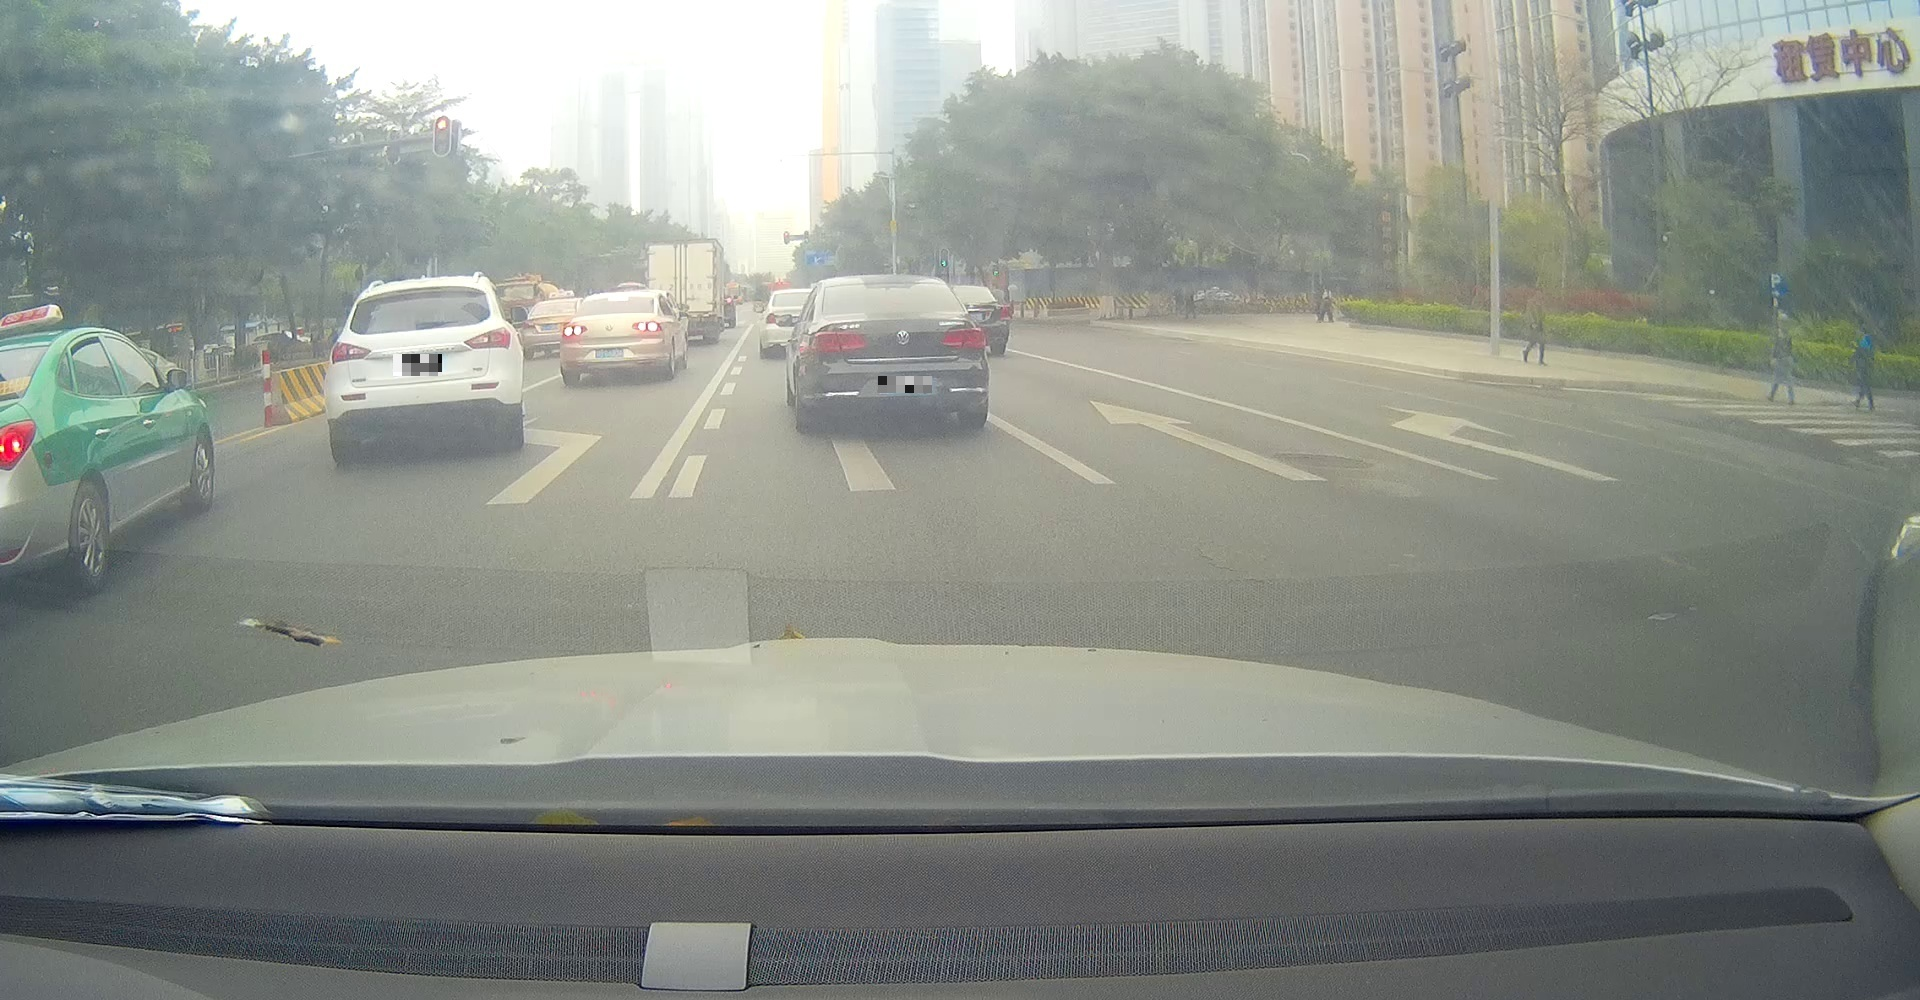L_light: (811, 332, 866, 352), (331, 340, 372, 365), (561, 324, 588, 338)
R_light: (463, 326, 512, 352), (941, 327, 985, 349), (631, 320, 662, 332)
T_light: (867, 282, 904, 289), (400, 287, 432, 294), (608, 297, 629, 301)
day-brake: (559, 292, 664, 385)
day-no: (323, 275, 524, 461), (799, 274, 990, 433)
plate_1: (392, 354, 442, 376)
plate_2: (877, 376, 932, 393)
